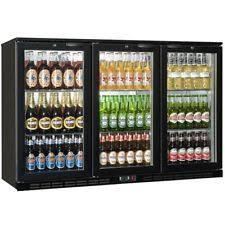beer: (25, 50, 83, 170), (98, 51, 152, 166), (167, 53, 213, 162)
